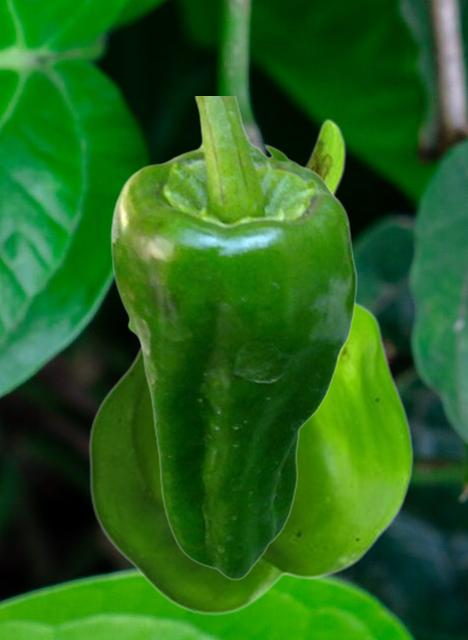bell_pepper: (87, 117, 413, 614), (109, 96, 357, 580)
